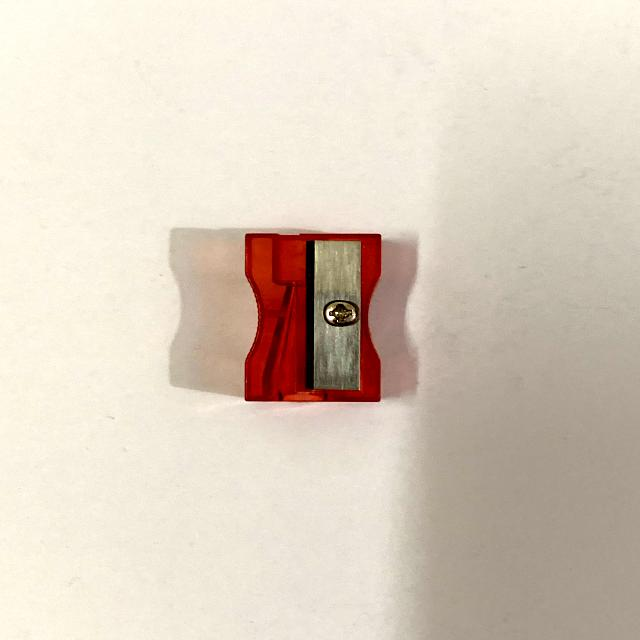Sharpner: (197, 213, 450, 425)
